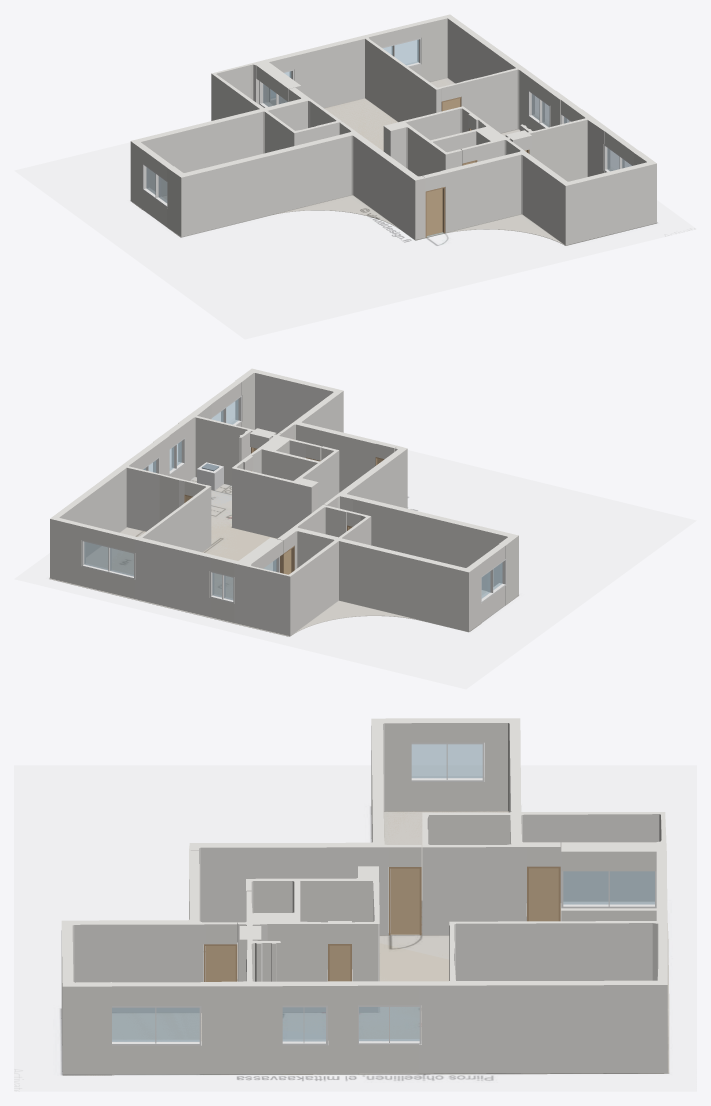
3 renders of one model, top to bottom at view 1: azimuth 30°, elevation 25°; view 2: azimuth 150°, elevation 25°; view 3: azimuth 270°, elevation 25°, orthographic. The views are drawn at different scales.
Visible parts, largest first — view 1: plan_floor, wall-r004, wall-r001, wall-r005, wall-r003, wall-r007, wall-r006, floor-slab, room-004, wall-infill:window-004, wall-infill:window-003, wall-infill:window-001 (+5 smaller); view 2: plan_floor, wall-r005, wall-r003, wall-r004, wall-r006, wall-r001, wall-r007, floor-slab, wall-infill:window-001, room-004, window-001:glass, wall-infill:window-004 (+6 smaller); view 3: plan_floor, wall-r006, wall-r005, wall-r003, wall-r001, wall-r004, wall-r007, floor-slab, wall-infill:window-007, wall-infill:window-003, wall-infill:window-004, wall-infill:window-005 (+21 smaller).
Part boxes in pixels (x1=…): plan_floor: x1=15, y1=78, x2=695, y2=339; wall-r004: x1=167, y1=129, x2=425, y2=240; wall-r001: x1=441, y1=149, x2=656, y2=245; wall-r005: x1=130, y1=59, x2=342, y2=209; wall-r003: x1=383, y1=106, x2=609, y2=181; wall-r007: x1=290, y1=35, x2=441, y2=121; wall-r006: x1=417, y1=14, x2=534, y2=133; floor-slab: x1=131, y1=78, x2=653, y2=245; room-004: x1=324, y1=99, x2=396, y2=150; wall-infill:window-004: x1=143, y1=148, x2=172, y2=226; wall-infill:window-003: x1=256, y1=62, x2=301, y2=107; wall-infill:window-001: x1=365, y1=22, x2=420, y2=75; plan_floor: x1=15, y1=450, x2=696, y2=688; wall-r005: x1=234, y1=504, x2=481, y2=635; wall-r003: x1=178, y1=403, x2=339, y2=538; wall-r004: x1=334, y1=446, x2=518, y2=605; wall-r006: x1=50, y1=457, x2=185, y2=586; wall-r001: x1=235, y1=368, x2=378, y2=492; wall-r007: x1=134, y1=485, x2=213, y2=617; floor-slab: x1=49, y1=477, x2=518, y2=636; wall-infill:window-001: x1=82, y1=524, x2=137, y2=598; room-004: x1=203, y1=520, x2=276, y2=596; window-001:glass: x1=84, y1=542, x2=133, y2=576; wall-infill:window-004: x1=475, y1=544, x2=505, y2=622; plan_floor: x1=14, y1=765, x2=696, y2=1091; wall-r006: x1=419, y1=939, x2=667, y2=1073; wall-r005: x1=422, y1=718, x2=666, y2=935; wall-r003: x1=200, y1=866, x2=379, y2=1074; wall-r001: x1=61, y1=864, x2=205, y2=1075; wall-r004: x1=189, y1=718, x2=412, y2=935; wall-r007: x1=449, y1=869, x2=667, y2=980; floor-slab: x1=63, y1=811, x2=669, y2=1075; wall-infill:window-007: x1=112, y1=982, x2=200, y2=1074; wall-infill:window-003: x1=561, y1=842, x2=656, y2=921; wall-infill:window-004: x1=411, y1=718, x2=483, y2=810; wall-infill:window-005: x1=358, y1=981, x2=419, y2=1073.
Bounding box in the file's own units: 21.3 × 2.7 × 18.83.
Materials: 15 (1 with a texture image).
